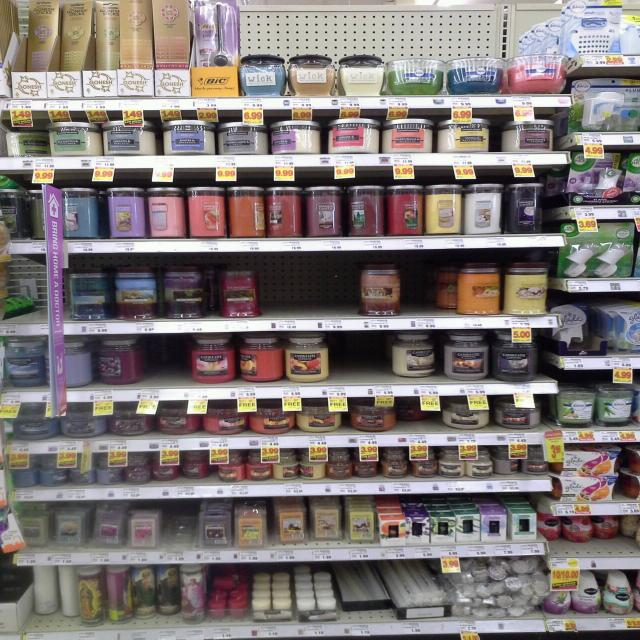void: (404, 248, 454, 331), (260, 257, 311, 331), (311, 256, 359, 332), (337, 332, 382, 398), (146, 337, 186, 403), (162, 498, 199, 564)
